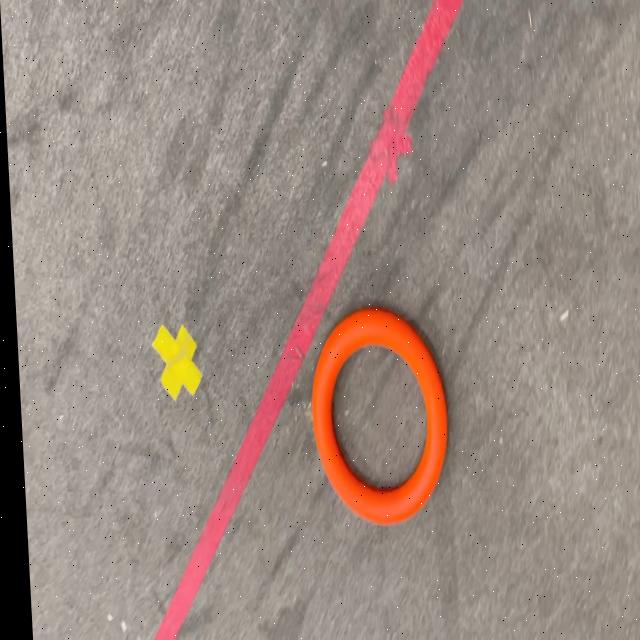note: (303, 306, 448, 526)
